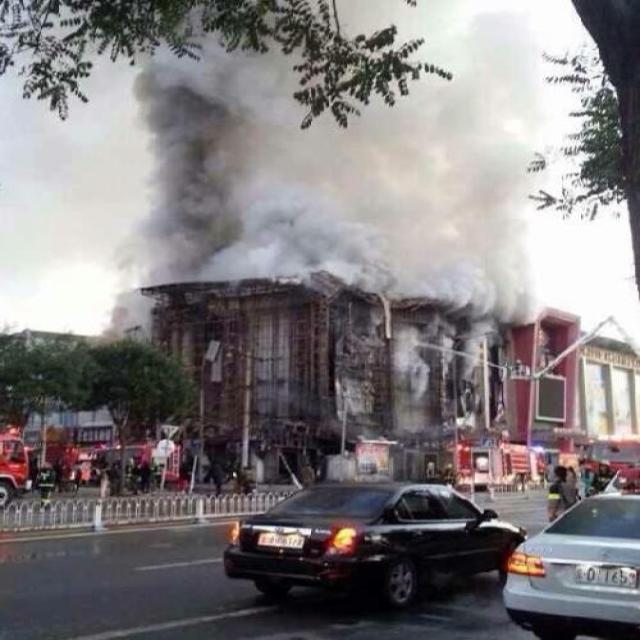Smoke: (89, 0, 552, 444)
